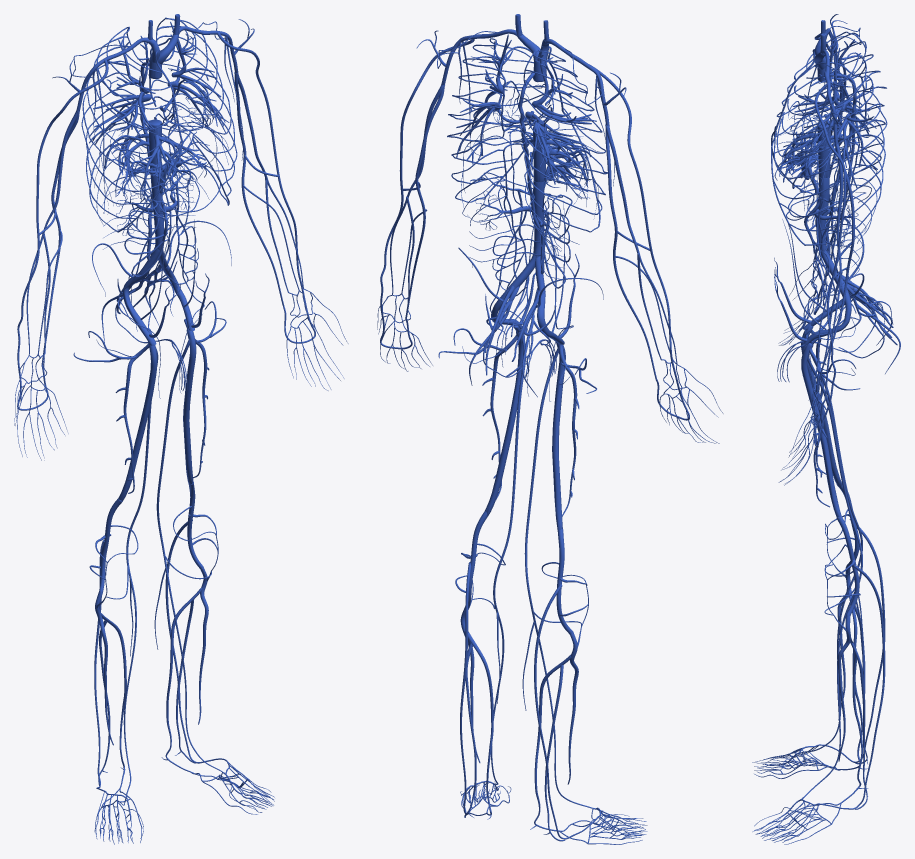
File: veias.glb
3 renders of one model, left to right at view 1: azimuth 30°, elevation 25°; view 2: azimuth 150°, elevation 25°; view 3: azimuth 270°, elevation 25°, orthographic. The views are drawn at different scales.
Visible parts, largest first — view 1: FMA70839, FMA21380, FMA21379, FMA21188, FMA13325, FMA21189, FMA10951, FMA13326, FMA22910, FMA15415, FMA44336, FMA44337 (+3 smaller); view 2: FMA70839, FMA21379, FMA21380, FMA21188, FMA21189, FMA13325, FMA10951, FMA13326, FMA22909, FMA44334, FMA22910, FMA44335 (+2 smaller); view 3: FMA70839, FMA21380, FMA21189, FMA13326, FMA10951, FMA21379, FMA44335, FMA70919, FMA22910, FMA21188, FMA44337, FMA44334 (+16 smaller).
Boxes of the visible parts, x1,y1,x2,y2 form: FMA70839: [81, 17, 237, 231]; FMA21380: [154, 338, 222, 771]; FMA21379: [123, 347, 158, 795]; FMA21188: [118, 344, 157, 500]; FMA13325: [17, 59, 108, 378]; FMA21189: [183, 329, 196, 484]; FMA10951: [149, 119, 164, 250]; FMA13326: [217, 31, 307, 309]; FMA22910: [234, 73, 284, 306]; FMA15415: [125, 131, 206, 202]; FMA44336: [95, 553, 134, 745]; FMA44337: [187, 531, 218, 724]; FMA70839: [447, 38, 607, 244]; FMA21379: [522, 348, 593, 808]; FMA21380: [491, 341, 526, 784]; FMA21188: [552, 342, 565, 531]; FMA21189: [485, 329, 523, 515]; FMA13325: [589, 64, 680, 393]; FMA10951: [533, 124, 546, 257]; FMA13326: [380, 39, 474, 321]; FMA22909: [605, 129, 656, 379]; FMA44334: [534, 584, 582, 839]; FMA22910: [405, 87, 444, 318]; FMA44335: [460, 562, 471, 815]; FMA70839: [772, 31, 887, 248]; FMA21380: [802, 356, 863, 799]; FMA21189: [801, 343, 841, 517]; FMA13326: [814, 83, 846, 418]; FMA10951: [816, 122, 830, 252]; FMA21379: [802, 333, 863, 752]; FMA44335: [842, 565, 885, 809]; FMA70919: [754, 760, 831, 844]; FMA22910: [824, 143, 854, 399]; FMA21188: [801, 325, 842, 486]; FMA44337: [825, 564, 850, 761]; FMA44334: [841, 527, 885, 762].
Bounding box in the file's own units: 0.6487 × 1.46 × 0.2536.
